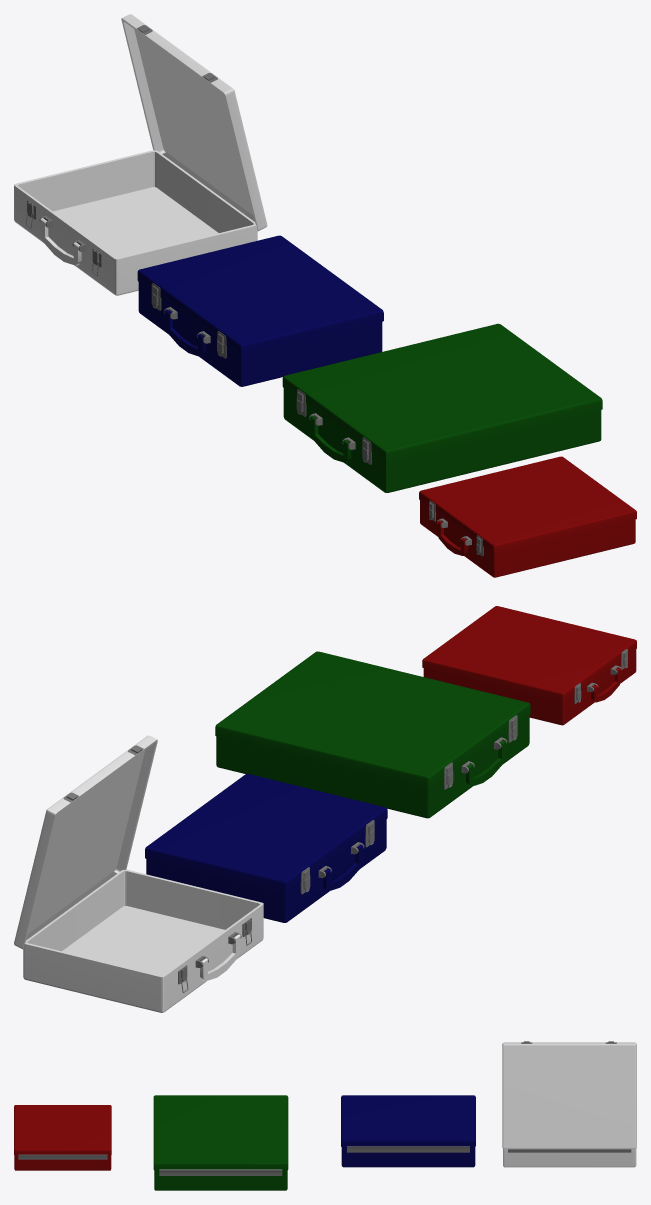
File: Med Kits.fbx
The picture shows the model from 3 angles, top to bottom: view 1: azimuth 30°, elevation 25°; view 2: azimuth 150°, elevation 25°; view 3: azimuth 270°, elevation 25°; orthographic projection. The views are drawn at different scales.
Visible parts, largest first — view 1: Lid (×4), Bottom (×4); view 2: Lid (×4), Bottom (×4), Handle (×3); view 3: Lid (×4), Bottom (×4), BackHinge (×4).
Part boxes in pixels (x1=…): Lid (×4): x1=121, y1=14, x2=636, y2=553; Bottom (×4): x1=14, y1=150, x2=635, y2=577; Lid (×4): x1=14, y1=606, x2=636, y2=949; Bottom (×4): x1=23, y1=649, x2=636, y2=1012; Handle (×3): x1=200, y1=740, x2=506, y2=981; Lid (×4): x1=14, y1=1042, x2=636, y2=1170; Bottom (×4): x1=14, y1=1147, x2=636, y2=1190; BackHinge (×4): x1=18, y1=1146, x2=631, y2=1175.
Size of the model in its own units: 47.98 by 37.91 by 178.
